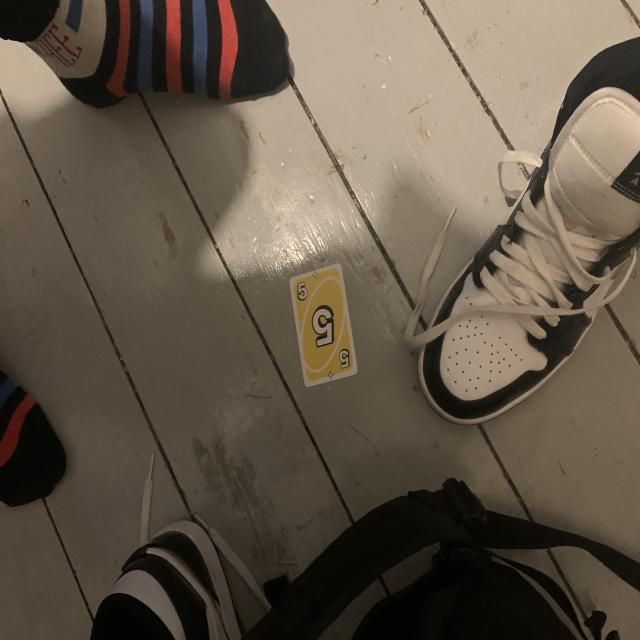lyellow-5: (295, 280, 310, 304)
